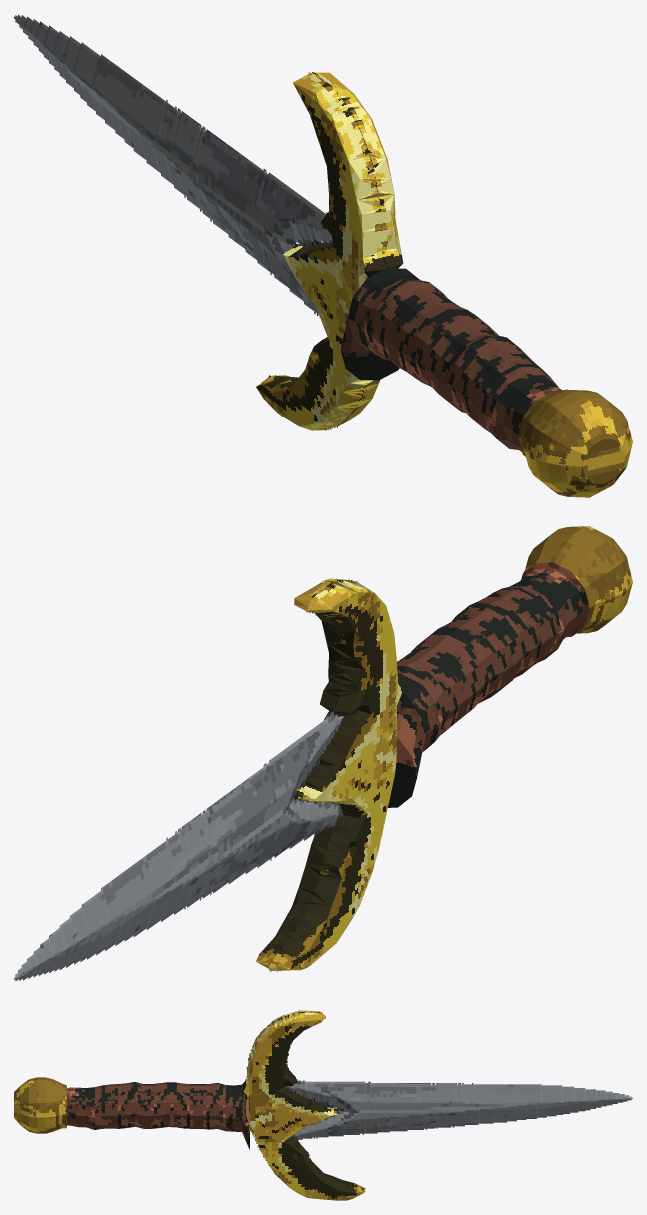
The model's file is dagger.glb.
3 renders of one model, top to bottom at view 1: azimuth 30°, elevation 25°; view 2: azimuth 150°, elevation 25°; view 3: azimuth 270°, elevation 25°, orthographic. The views are drawn at different scales.
Visible parts, largest first — view 1: guard, blade, grip, pommel; view 2: guard, blade, grip, pommel; view 3: blade, guard, grip, pommel.
Part boxes in pixels (left/top/right/bottom): guard: left=256, top=72, right=403, bottom=430; blade: left=14, top=14, right=332, bottom=317; grip: left=340, top=268, right=561, bottom=451; pommel: left=518, top=389, right=632, bottom=497; guard: left=256, top=578, right=402, bottom=971; blade: left=14, top=711, right=343, bottom=981; grip: left=388, top=562, right=589, bottom=807; pommel: left=523, top=526, right=632, bottom=635; blade: left=286, top=1080, right=632, bottom=1140; guard: left=239, top=1010, right=365, bottom=1200; grip: left=66, top=1082, right=249, bottom=1149; pommel: left=14, top=1077, right=66, bottom=1133.
Bounding box in the file's own units: 0.0346 × 0.1258 × 0.3779.
Materials: 2 (2 with a texture image).
